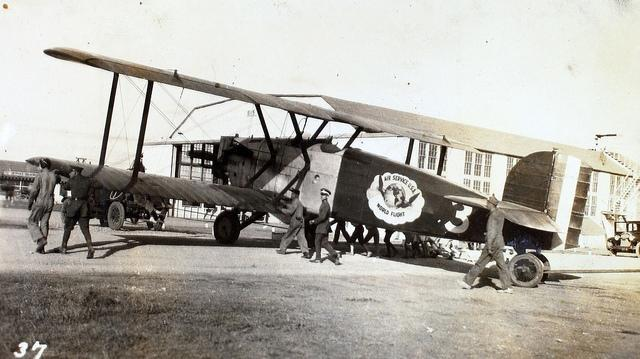car: (608, 221, 640, 258)
truck: (86, 190, 146, 231), (606, 221, 640, 258)
